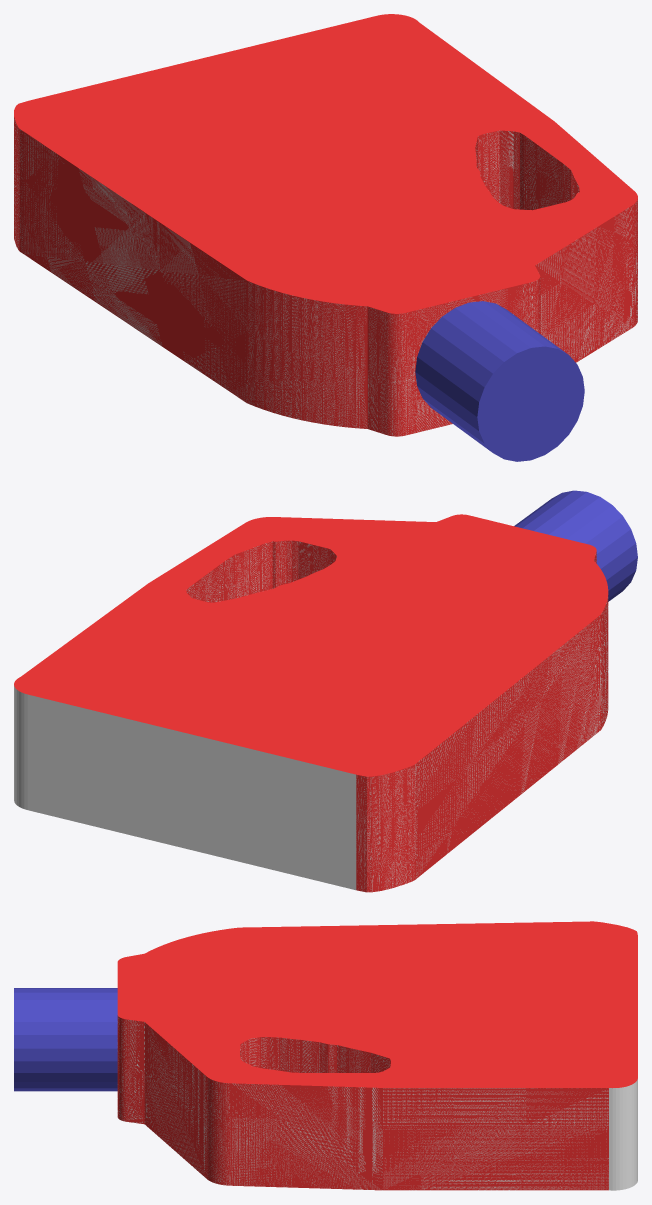
The picture shows the model from 3 angles, top to bottom: view 1: azimuth 30°, elevation 25°; view 2: azimuth 150°, elevation 25°; view 3: azimuth 270°, elevation 25°; orthographic projection. The views are drawn at different scales.
Parts seen in each view (by area): view 1: tide detergent bottle; view 2: tide detergent bottle; view 3: tide detergent bottle.
Boxes of the visible parts, x1,y1,x2,y2 form: tide detergent bottle: (14,14,637,461); tide detergent bottle: (14,490,637,892); tide detergent bottle: (14,921,637,1190).
Size of the model in its own units: 6.74 by 1.93 by 10.66.
